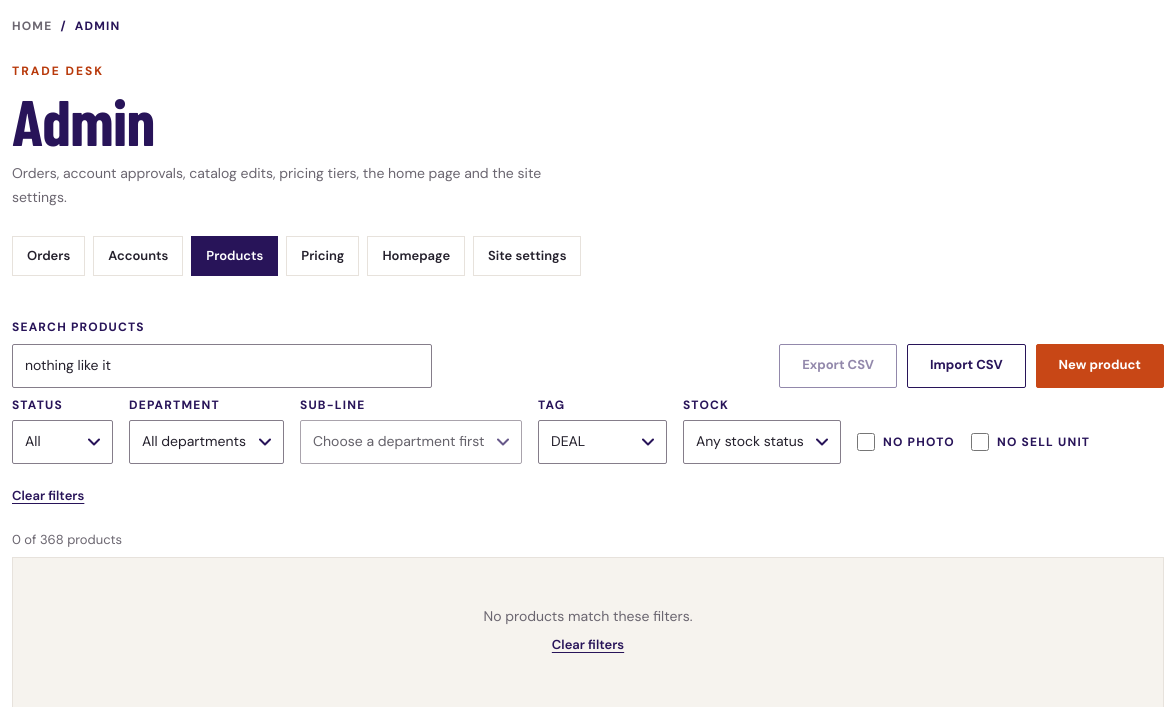
Scenario: the products list: filters in the URL (AW-115) › says when nothing matches, with a Clear filters link that keeps the sort
Expected: the text "No products match these filters." is shown, [484,607,692,625]
Click the link "Clear filters" below "No products match these filters." at (588, 645), box [552,636,624,653]
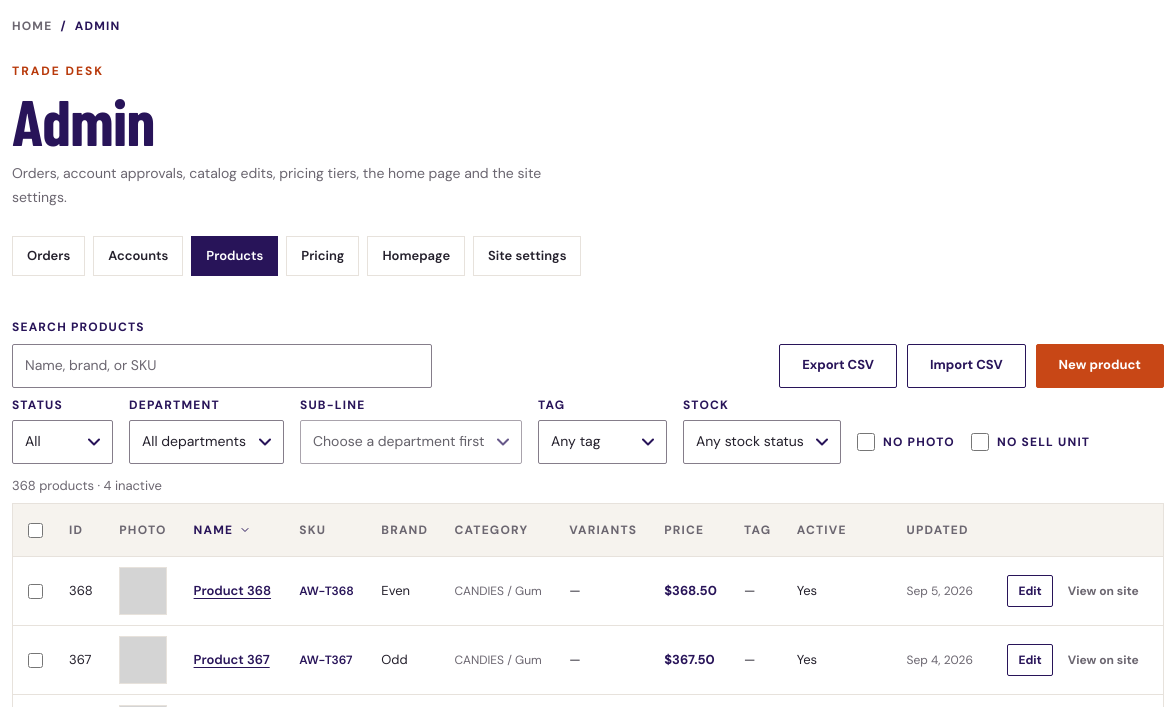
Expected: the search field labelled "Search products" is empty, [12,344,432,388]
Expected: the link "Clear filters" is gone
